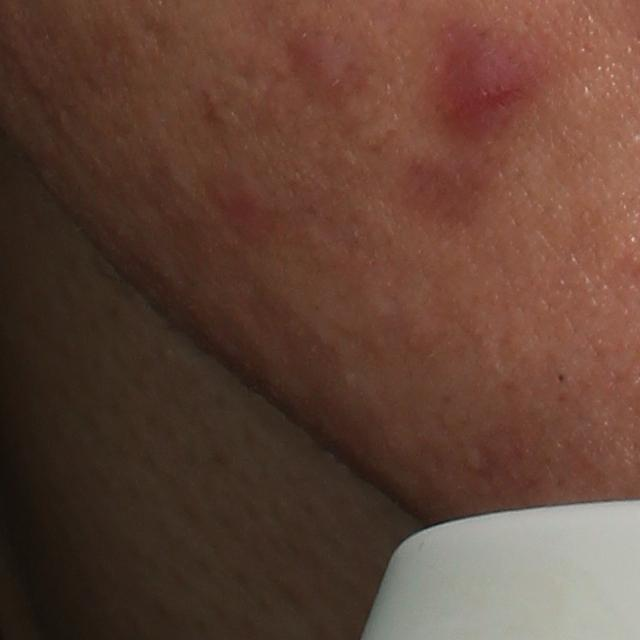papule: (429, 31, 524, 122), (293, 28, 362, 112)
